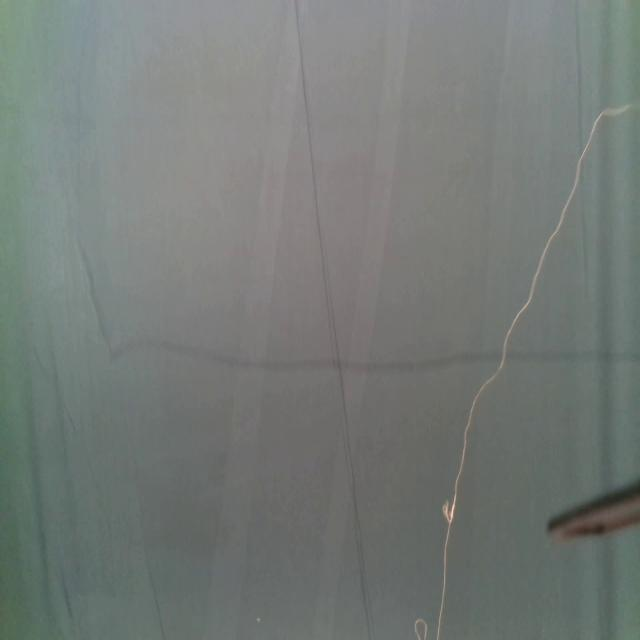color bleeding: (105, 333, 640, 373)
crease: (296, 0, 372, 640), (574, 0, 592, 301), (142, 545, 166, 640)
